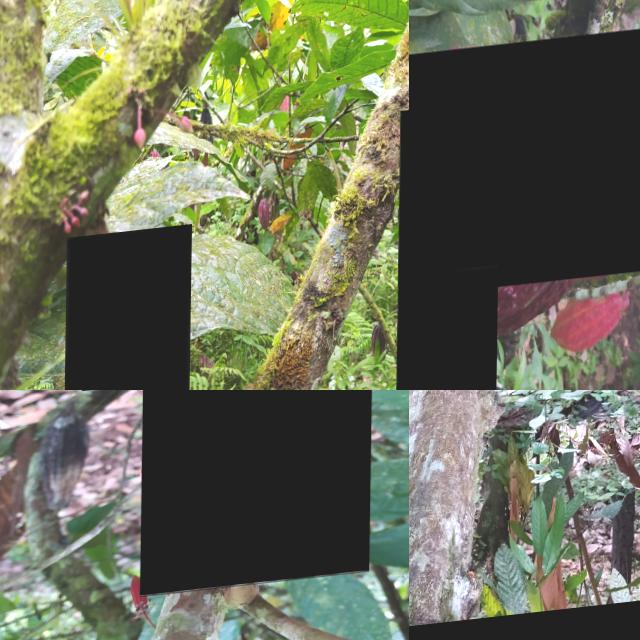Fitoftora: (64, 229, 192, 390)
Monilia: (409, 27, 640, 300)
Sana: (141, 390, 375, 602), (412, 234, 584, 348), (409, 268, 499, 390), (554, 298, 631, 362)
